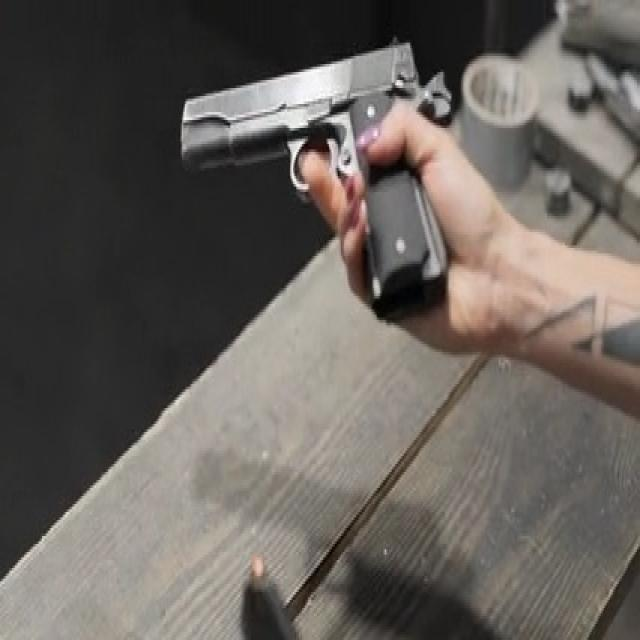Gun_Holder: (169, 44, 489, 325)
